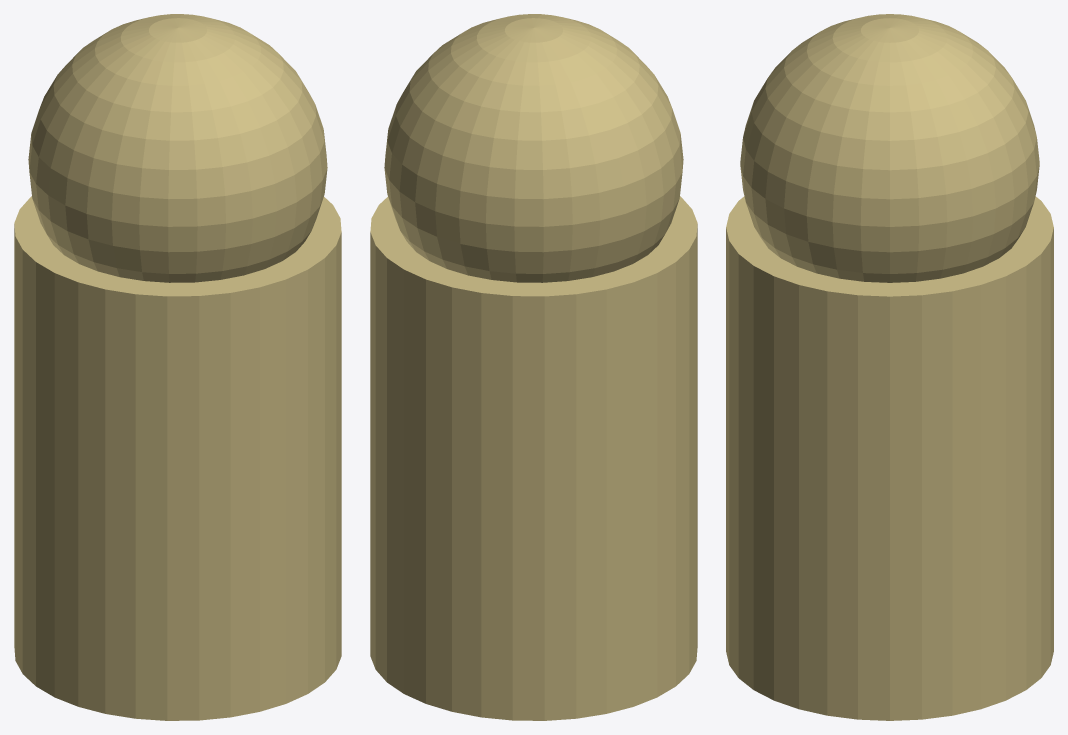
Rendered from player_static.glb.
The picture shows the model from 3 angles, left to right: view 1: azimuth 30°, elevation 25°; view 2: azimuth 150°, elevation 25°; view 3: azimuth 270°, elevation 25°; orthographic projection.
Visible parts, largest first — view 1: Player; view 2: Player; view 3: Player.
Boxes of the visible parts, box(x1,y1,x2,y2) form: Player: box(14, 14, 341, 720); Player: box(370, 14, 697, 720); Player: box(726, 14, 1053, 720).
Size of the model in its own units: 0.7 by 1.47 by 0.7.
